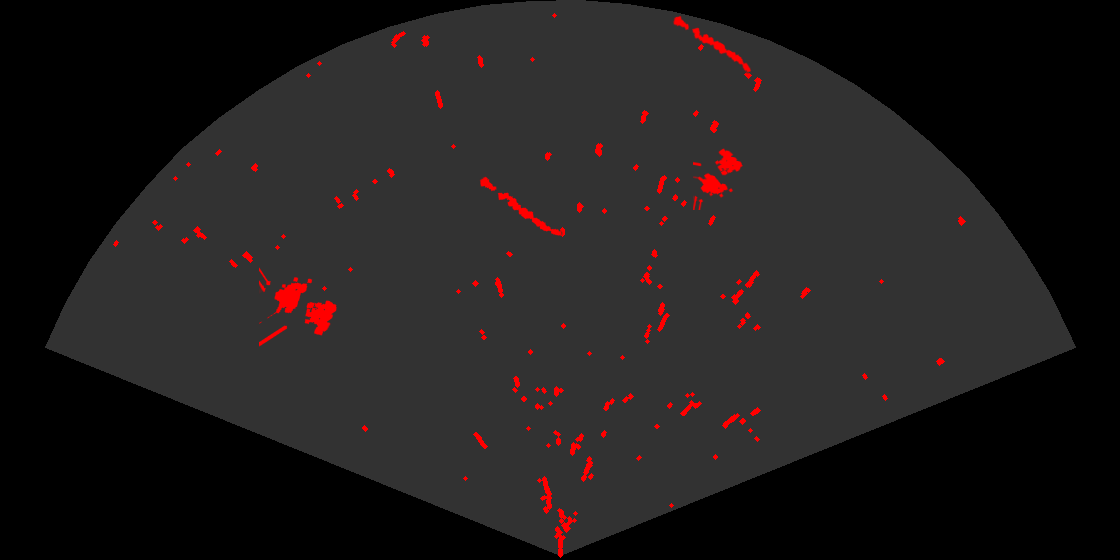cage: (259, 266, 338, 348), (693, 147, 744, 210)
chain: (478, 175, 563, 237), (671, 14, 753, 74)
